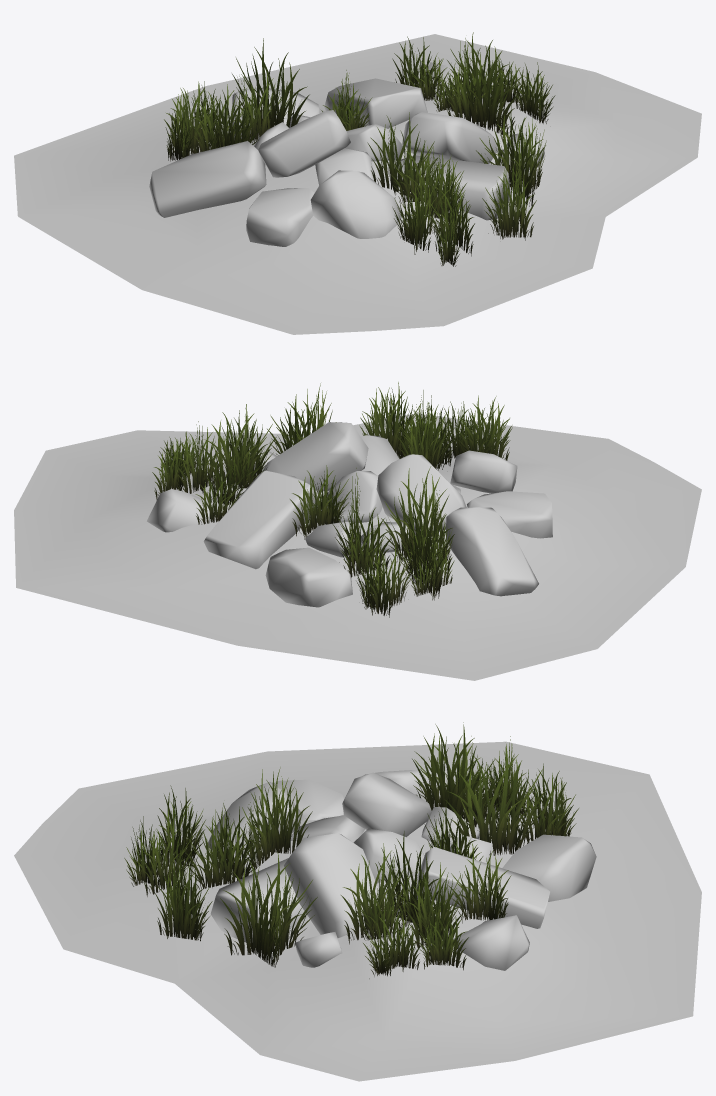
Rendered from Soil_Bricks_Grass_04.fbx.
3 views of the same model, one above another, from view 1: azimuth 30°, elevation 25°; view 2: azimuth 150°, elevation 25°; view 3: azimuth 270°, elevation 25° (orthographic). The views are drawn at different scales.
Visible parts, largest first — view 1: Soil_Bricks_Grass_04_LOD0; view 2: Soil_Bricks_Grass_04_LOD0; view 3: Soil_Bricks_Grass_04_LOD0.
Boxes of the visible parts, left/top/right/bottom form: Soil_Bricks_Grass_04_LOD0: left=14, top=32, right=701, bottom=334; Soil_Bricks_Grass_04_LOD0: left=14, top=382, right=701, bottom=680; Soil_Bricks_Grass_04_LOD0: left=14, top=722, right=701, bottom=1081.
Size of what is drawn, in the model's own units: 10.17 by 2.12 by 8.7.
